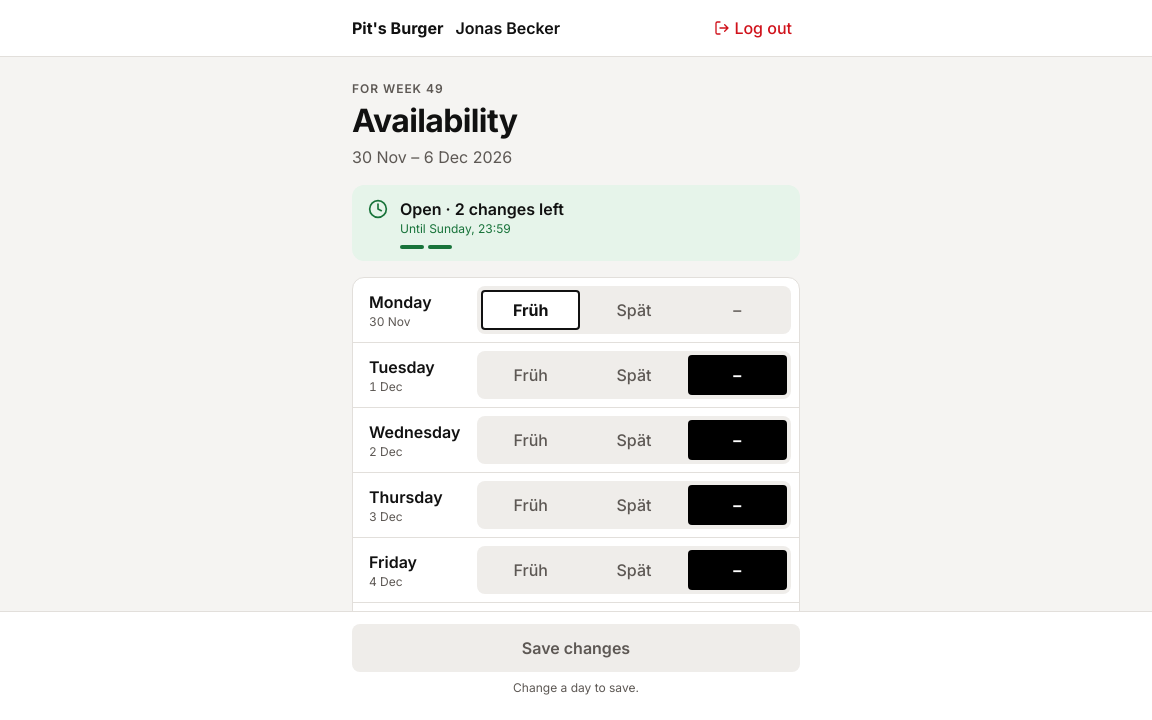
Test: Availability › saves a change directly once the week was submitted
Check: the button "Save changes" is disabled, box [352,624,800,672]
Check: the text "Change a day to save." is shown, box [513,680,639,695]
Click the radio button named "Not available".
click(737, 310)  # box [688,290,787,330]
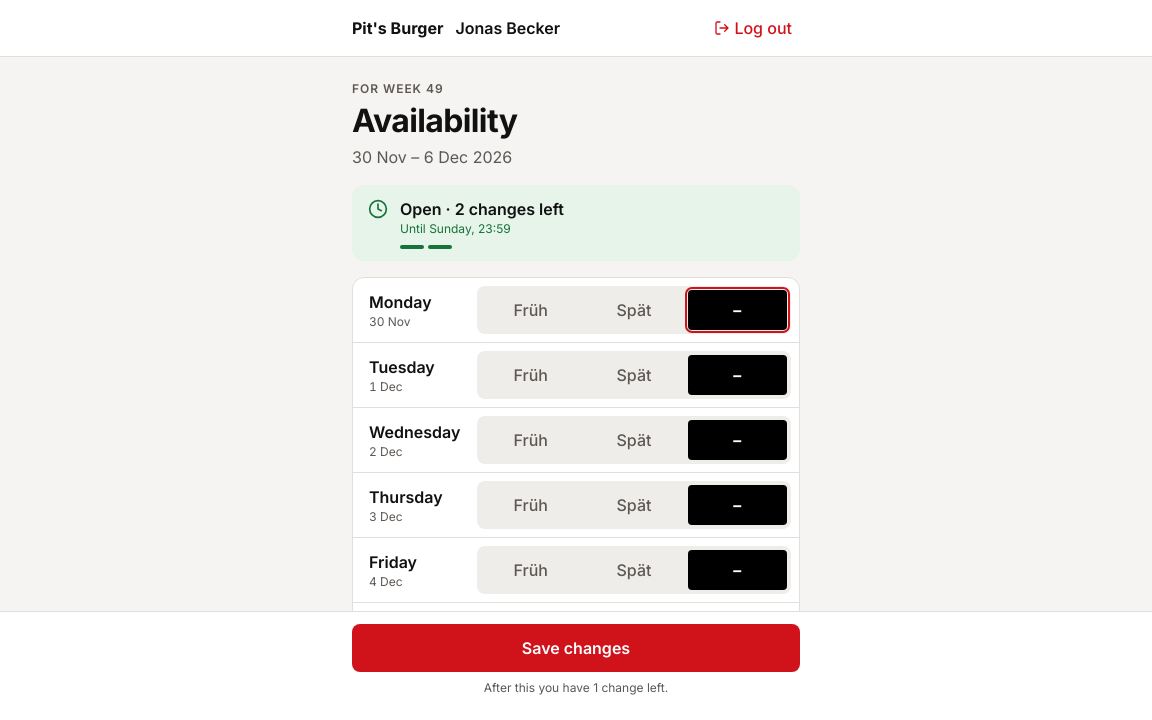
Click the radio button labelled "Spät" in the row of "Tuesday".
click(634, 375)  # box [584,355,684,395]
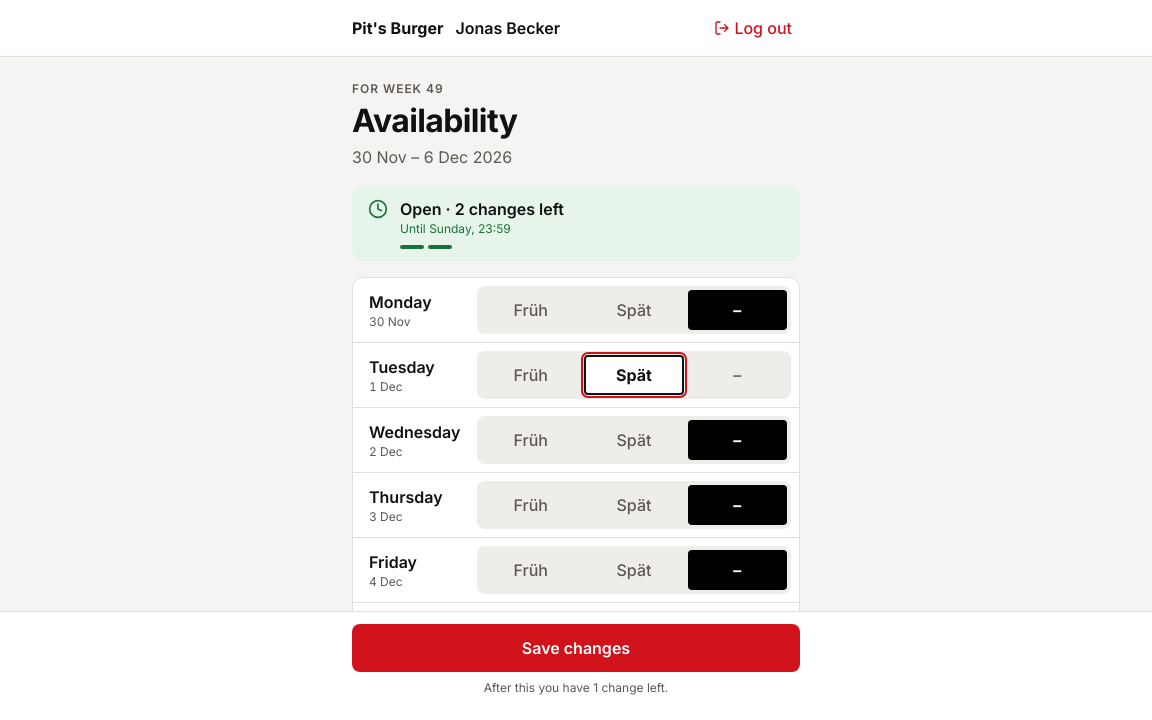
Check: the text "After this you have 1 change left." is shown, box [484,680,668,695]
Click the button "Save changes".
click(576, 648)  # box [352,624,800,672]
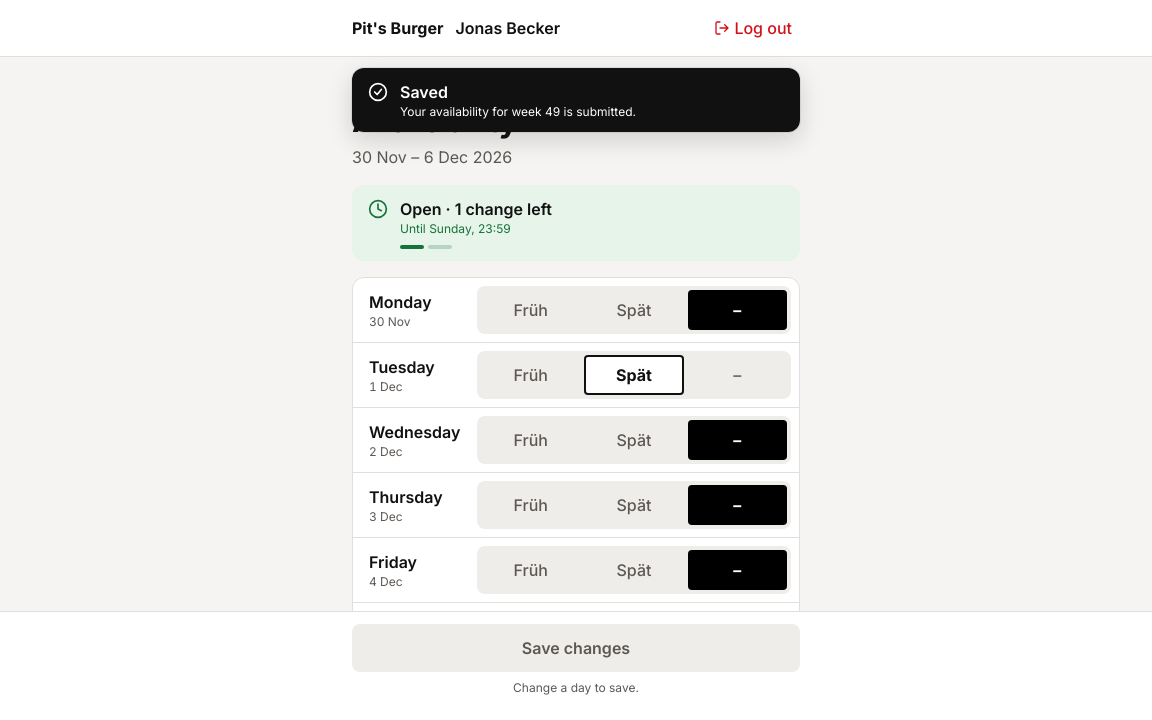
Check: the text "Open · 1 change left" is shown, box [400,197,552,221]
